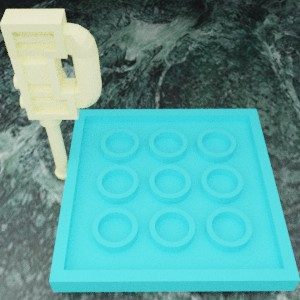lego: (49, 108, 300, 292), (0, 9, 101, 179)
